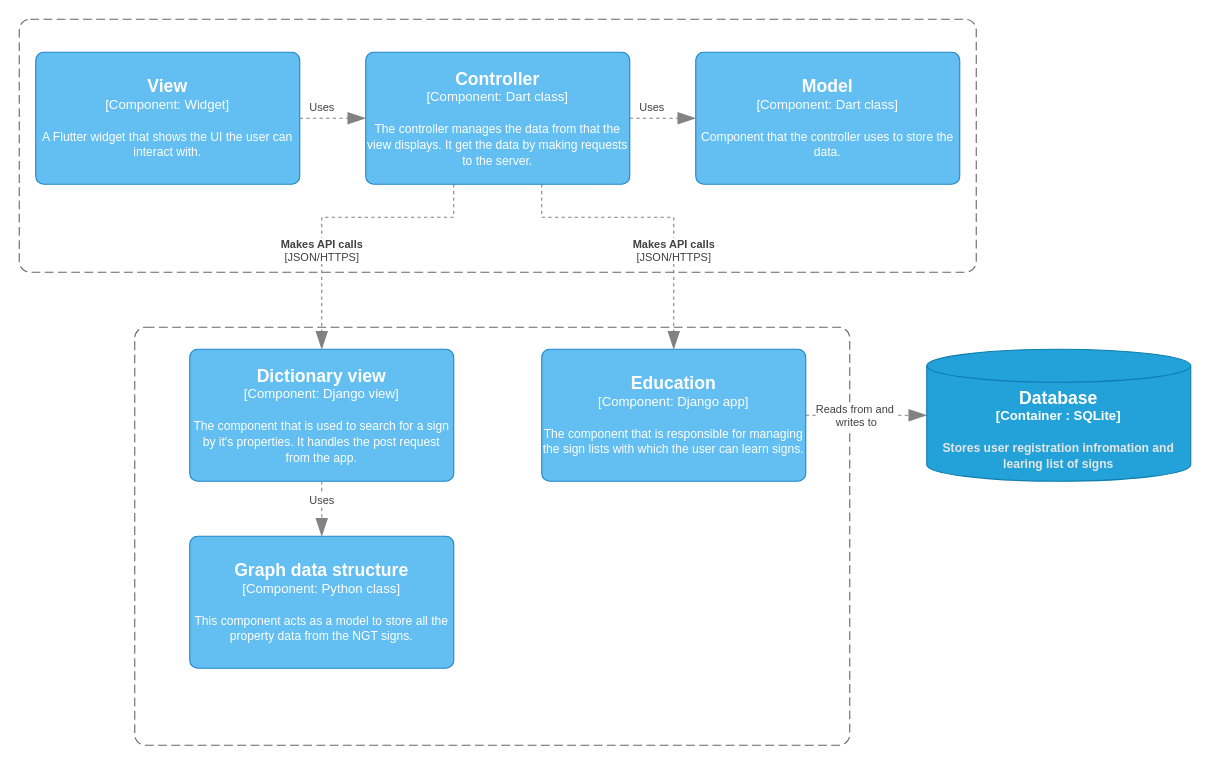
This 1210x765 diagram has some shape labels left out. The shapes that lost their labels are listed below. From the top down, each one's box as (x1, y1, x2, y2) in pixels, then its label:
(18, 18, 976, 272): Flutter [Container]
(134, 326, 850, 745): API applications [Container]
